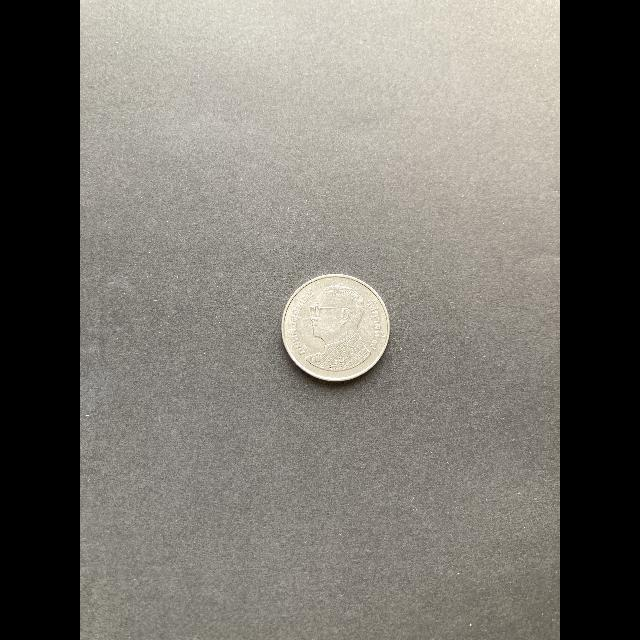1 Bath: (276, 269, 397, 393)
